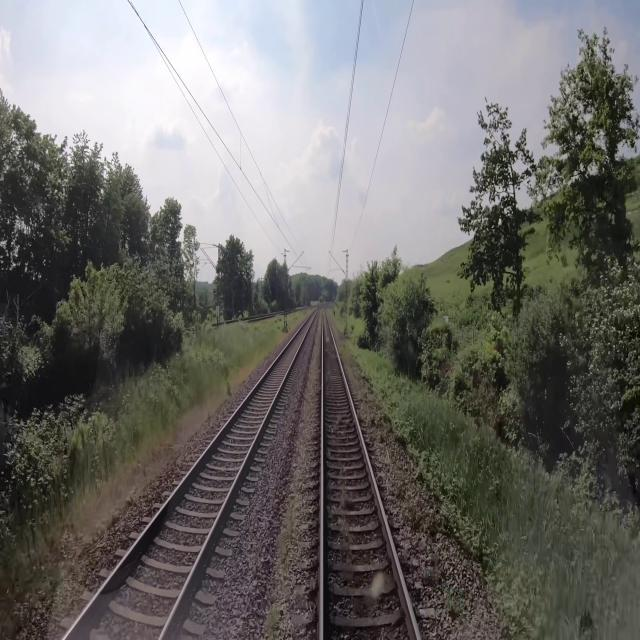Plant: (264, 310, 322, 639), (336, 344, 361, 395)
